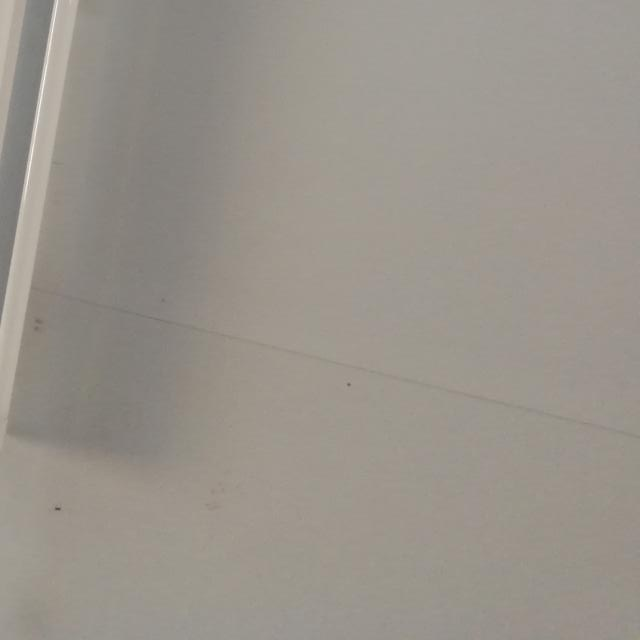fluorescent tube: (0, 0, 182, 465)
